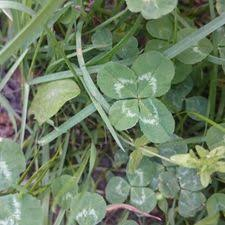4-clover: (97, 52, 178, 142)
